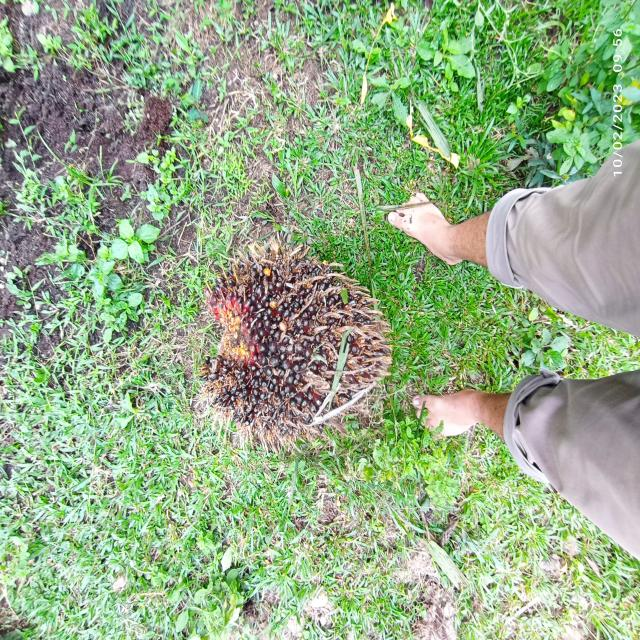fraksi 00: (183, 234, 401, 454)
